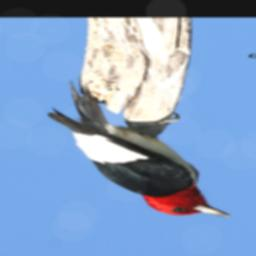Woodpecker: (40, 80, 237, 218)
